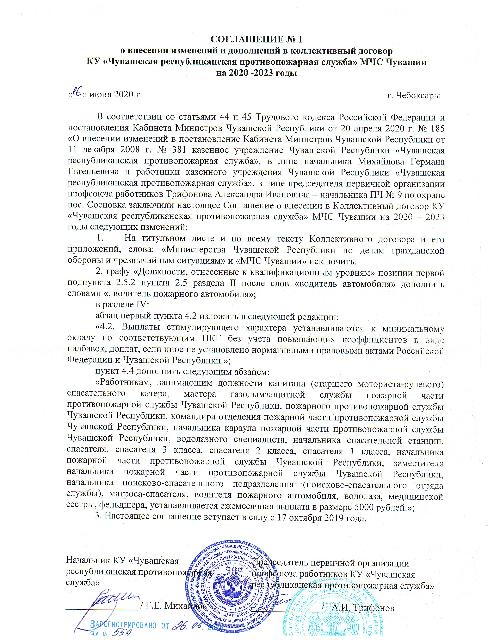stamp: (186, 540, 280, 634)
